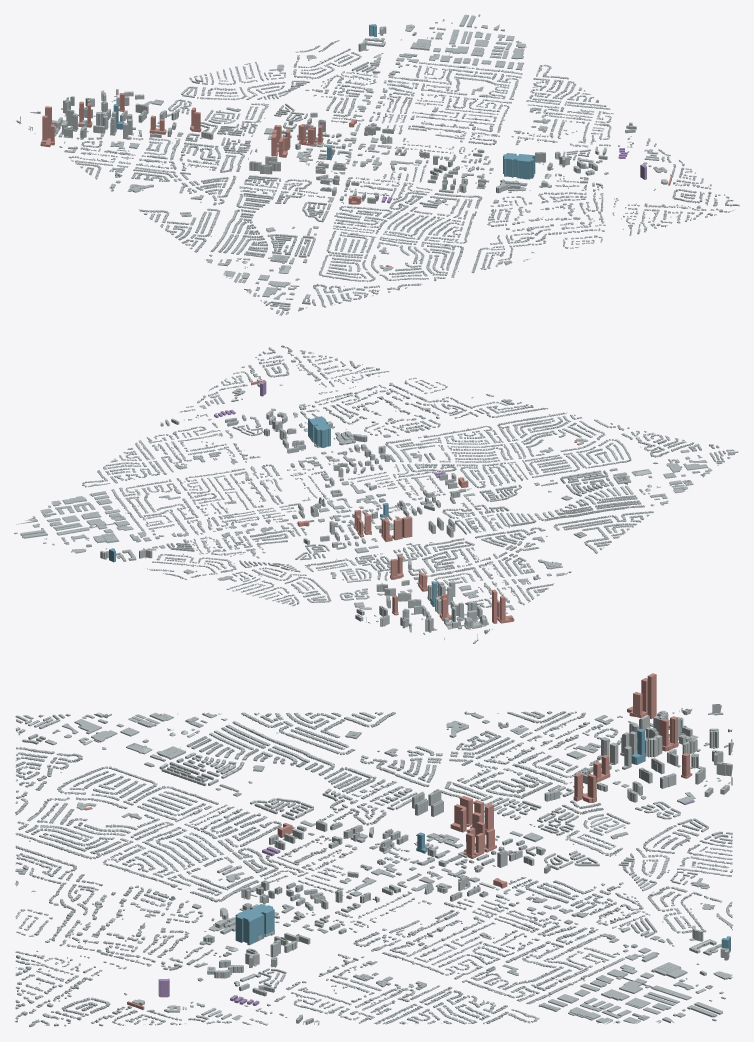
File: cooksville.glb
3 renders of one model, top to bottom at view 1: azimuth 30°, elevation 25°; view 2: azimuth 150°, elevation 25°; view 3: azimuth 270°, elevation 25°, orthographic. The views are drawn at different scales.
Parts seen in each view (by area): view 1: existing-91, existing-63, existing-101, existing-72, existing-92, existing-62, 91-5029, existing-102; view 2: existing-91, existing-63, existing-101, existing-72, existing-92, existing-62, existing-102, 91-5029; view 3: existing-63, existing-91, existing-101, existing-72, existing-92, existing-62, 91-5029, existing-102.
Part boxes in pixels (box(x1,y1,x2,y2)): existing-91: box(298, 153, 618, 311); existing-63: box(16, 109, 351, 273); existing-101: box(358, 14, 636, 175); existing-72: box(30, 26, 386, 150); existing-92: box(621, 189, 739, 235); existing-62: box(223, 270, 299, 315); 91-5029: box(503, 153, 535, 179); existing-102: box(643, 138, 711, 189); existing-91: box(293, 377, 719, 508); existing-63: box(362, 468, 668, 643); existing-101: box(14, 408, 352, 553); existing-72: box(100, 513, 444, 639); existing-92: box(255, 345, 389, 387); existing-62: box(653, 449, 738, 493); existing-102: box(180, 365, 262, 412); 91-5029: box(308, 416, 330, 447); existing-63: box(126, 704, 723, 865); existing-91: box(15, 727, 416, 970); existing-101: box(197, 870, 732, 1025); existing-72: box(429, 728, 733, 960); existing-92: box(14, 950, 127, 1026); existing-62: box(15, 712, 177, 749); 91-5029: box(235, 904, 274, 945); existing-102: box(91, 999, 267, 1026).
Size of the model in its own units: 3713 by 296 by 3648.
